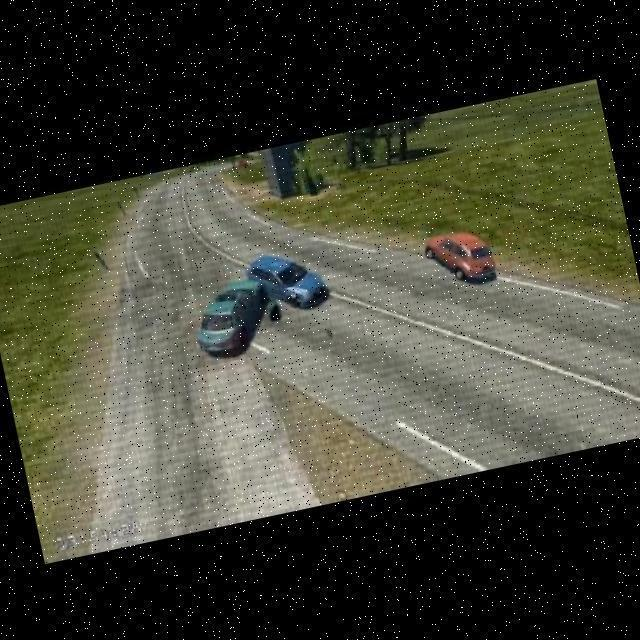accident: (201, 250, 310, 335)
